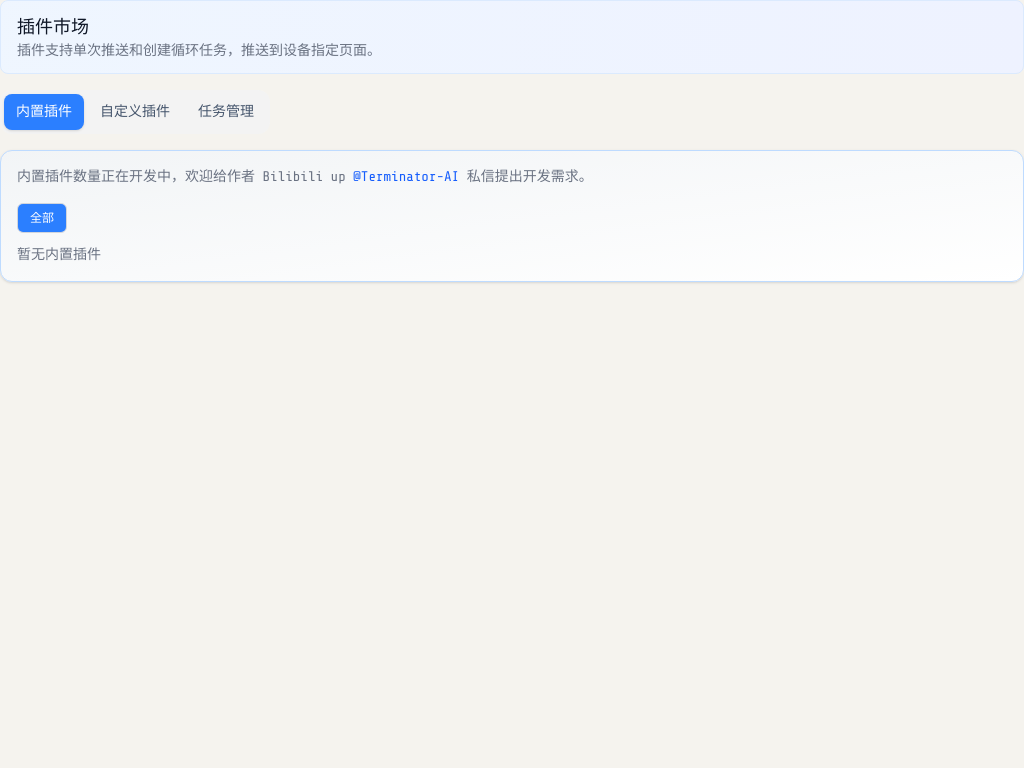
Scenario: opens custom plugin usage instructions from the custom tab
Click the tab "自定义插件" at coordinates (135, 112), box [88,94,182,130]
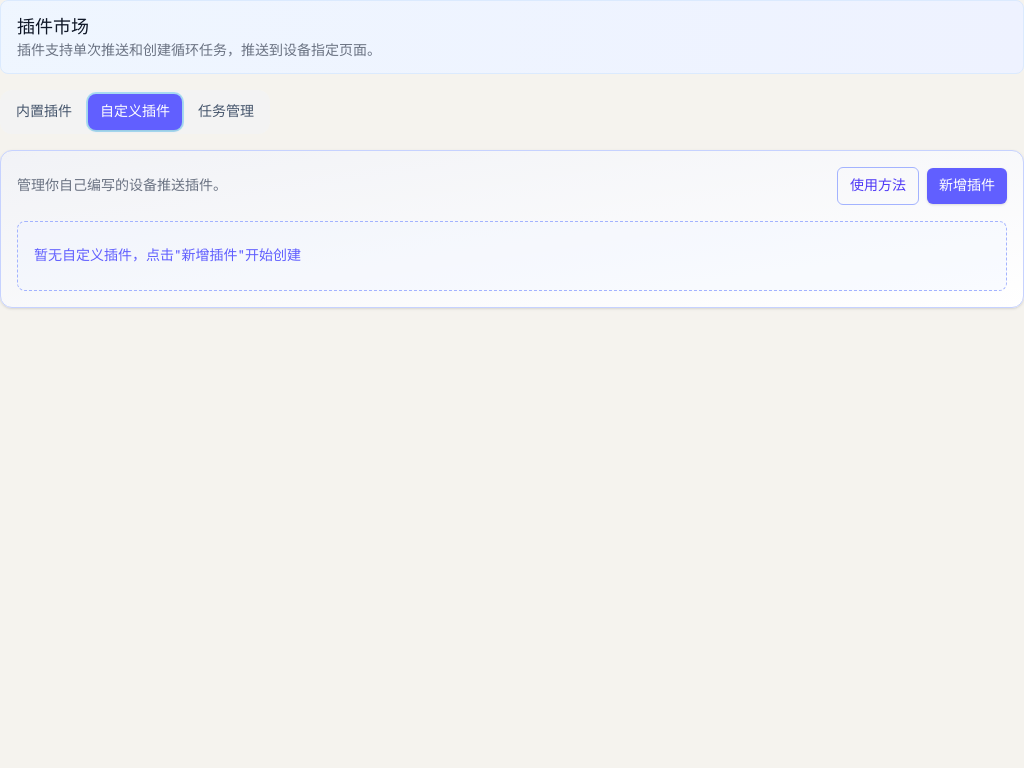
Click the button "使用方法" at coordinates (878, 186), box [837,167,919,205]
(page scrolled)
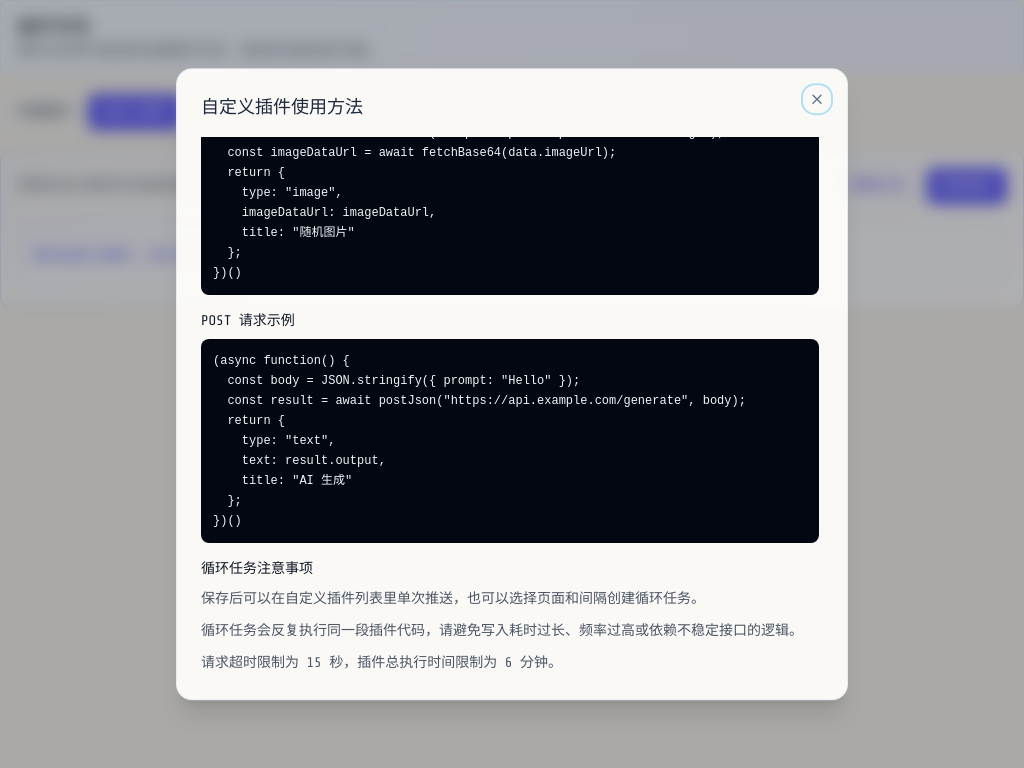
expect the dialog "自定义插件使用方法" is shown: met, box [176,68,848,700]
expect the heading "循环任务注意事项" is shown: met, box [201,561,313,576]
